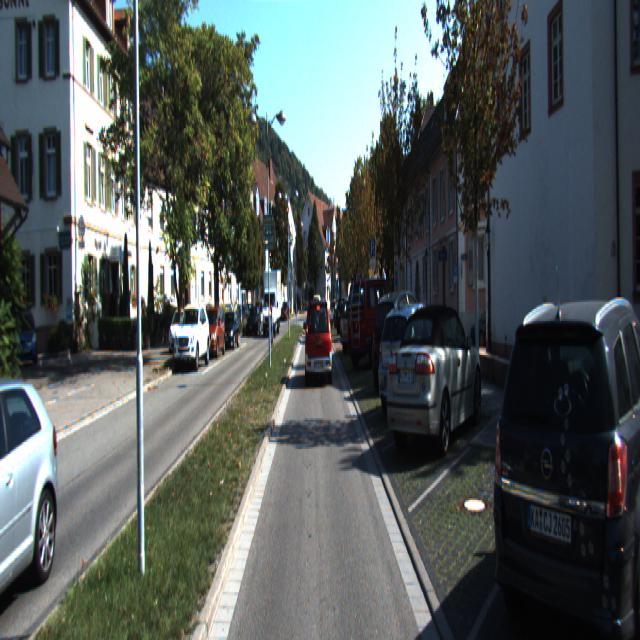Car: (492, 282, 640, 638), (0, 364, 71, 626), (384, 299, 484, 460), (377, 296, 455, 419), (371, 288, 434, 394), (346, 276, 401, 368), (174, 301, 210, 368), (340, 298, 382, 354), (306, 301, 333, 387), (200, 307, 227, 360), (260, 274, 282, 337), (16, 311, 38, 365), (334, 297, 362, 334), (169, 309, 190, 355), (219, 313, 240, 351), (245, 306, 262, 336)
